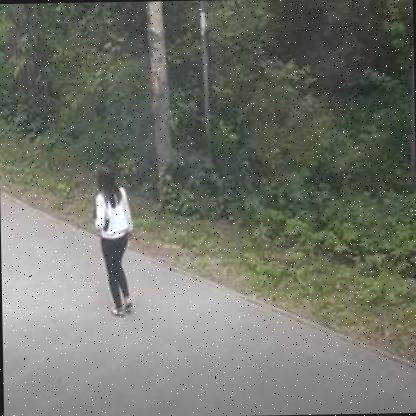person: (88, 161, 137, 321)
tree: (144, 0, 179, 213)
